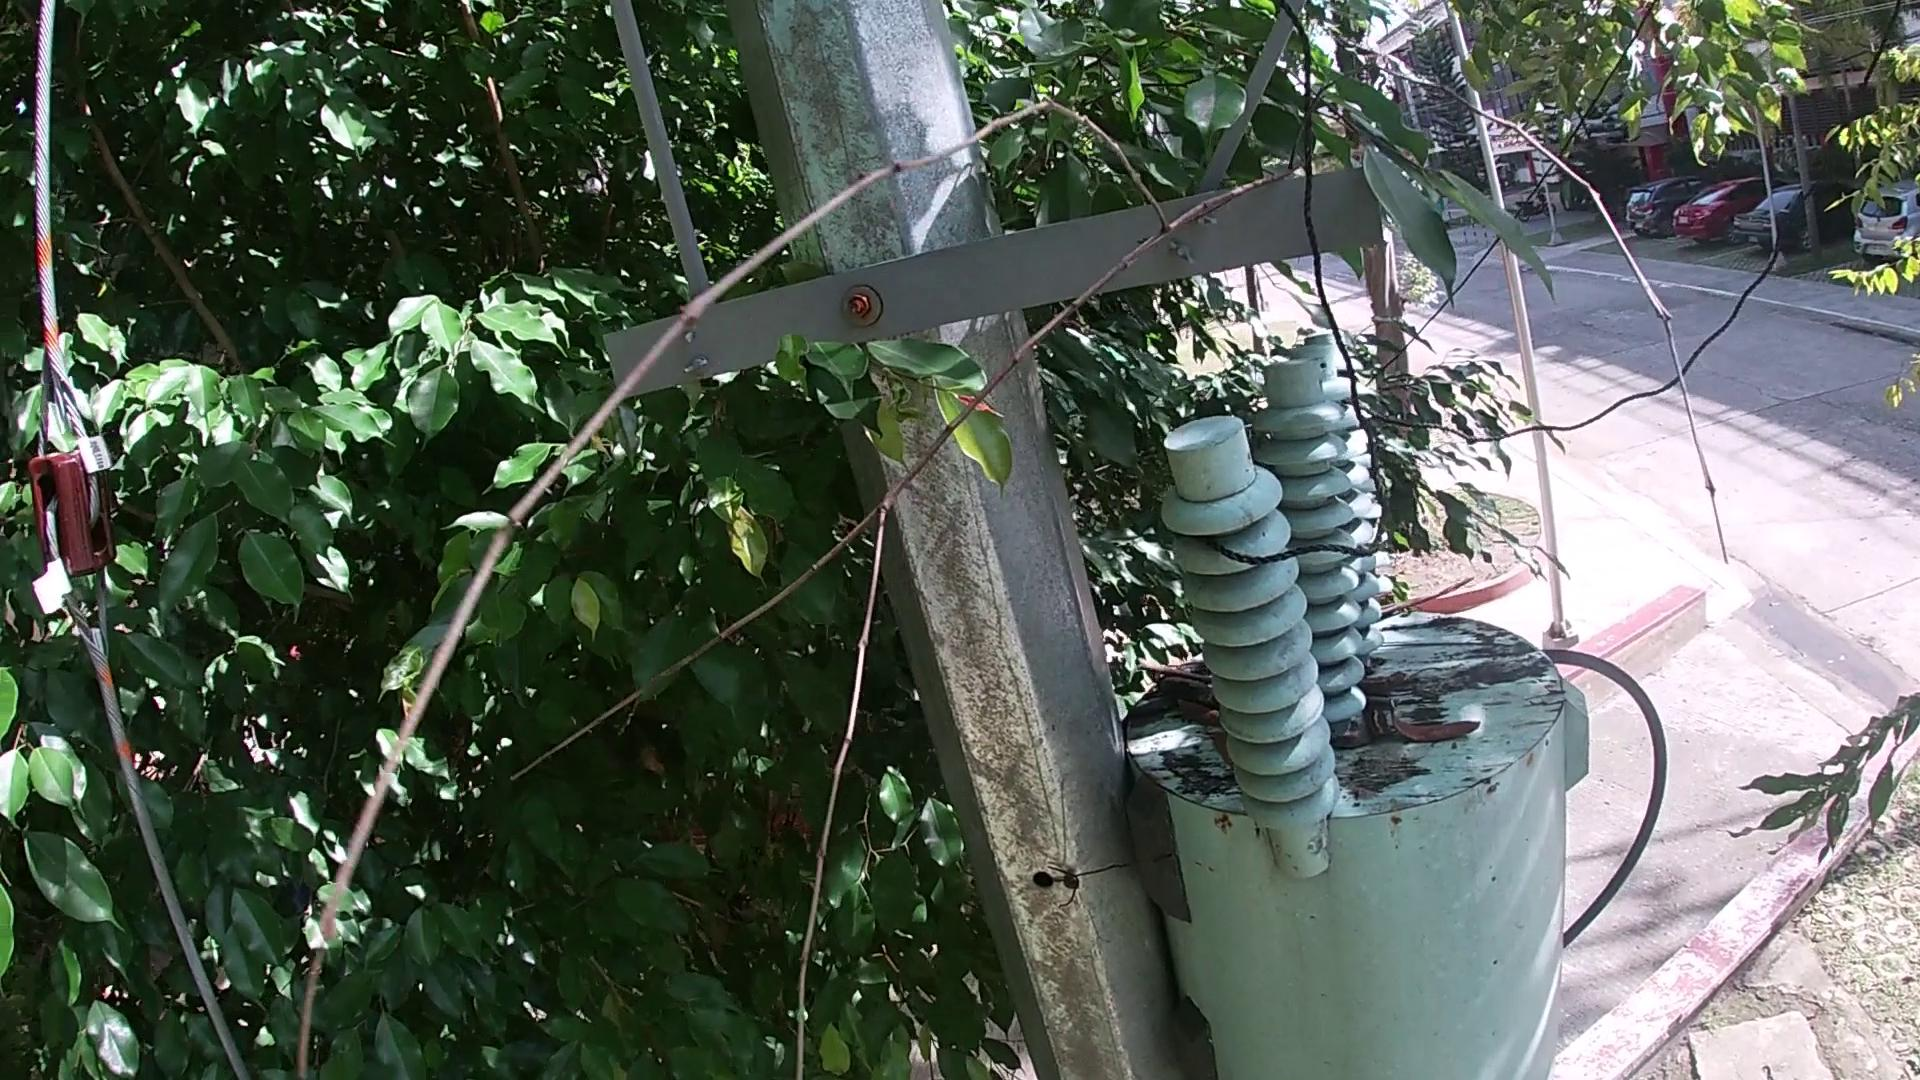leaf: (1382, 696, 1484, 750), (1168, 694, 1222, 731), (1196, 727, 1230, 762)
tree branch: (287, 59, 1742, 1077), (1375, 574, 1482, 628), (1137, 662, 1224, 709)
